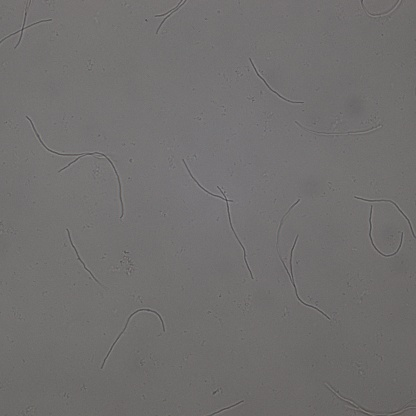Sensitive: (25, 117, 126, 217), (277, 199, 330, 320), (101, 306, 168, 368), (218, 187, 253, 280), (325, 381, 414, 416), (354, 196, 416, 240), (1, 1, 53, 51), (249, 59, 303, 106), (182, 158, 234, 205), (368, 204, 405, 261), (68, 228, 103, 288), (296, 120, 382, 139), (153, 1, 186, 33)
